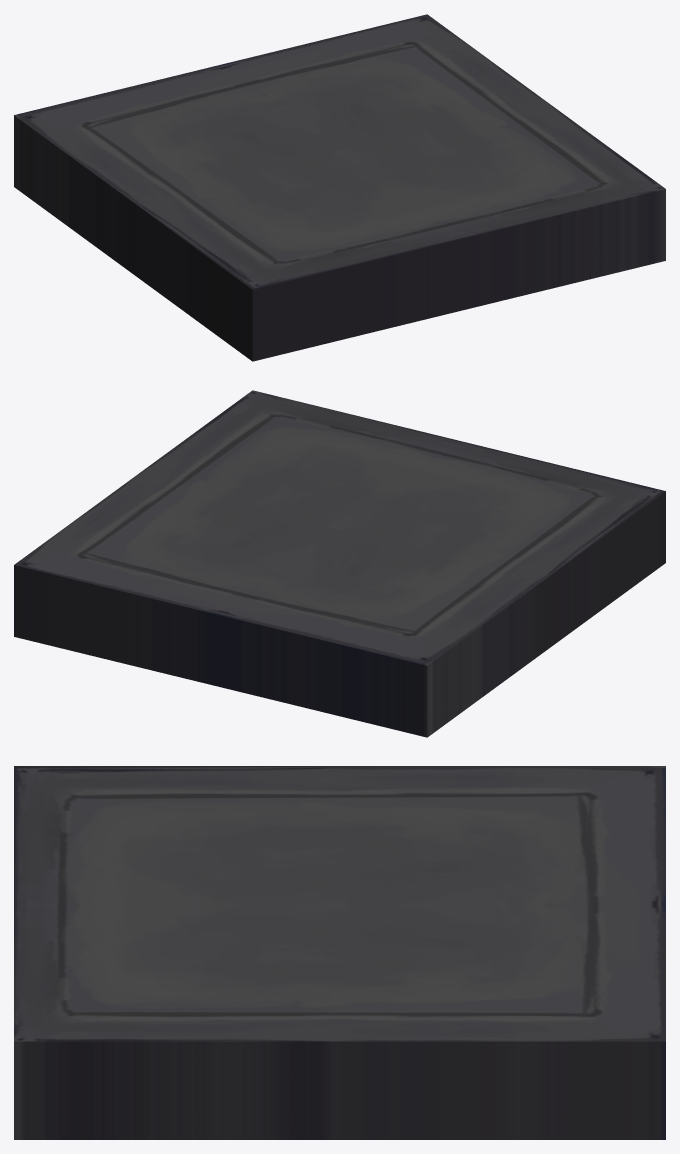
The model's file is Floor_Tile01.glb.
3 views of the same model, one above another, from view 1: azimuth 30°, elevation 25°; view 2: azimuth 150°, elevation 25°; view 3: azimuth 270°, elevation 25° (orthographic). The views are drawn at different scales.
Visible parts, largest first — view 1: Plane.024; view 2: Plane.024; view 3: Plane.024.
Boxes of the visible parts, x1=… form: Plane.024: x1=14, y1=14, x2=665, y2=361; Plane.024: x1=14, y1=390, x2=665, y2=737; Plane.024: x1=14, y1=766, x2=665, y2=1139.
Size of the model in its own units: 4.05 by 0.6728 by 4.05.
Materials: 1 (1 with a texture image).
